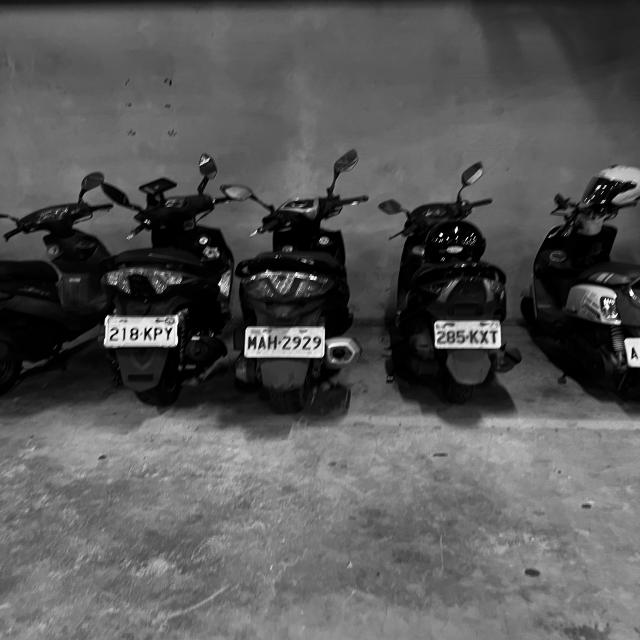-: (466, 334, 470, 339), (277, 340, 282, 344), (140, 331, 144, 336)
1: (120, 326, 127, 342)
2: (108, 325, 120, 342), (301, 335, 312, 351), (282, 334, 292, 350), (436, 329, 446, 344)
5: (456, 329, 466, 344)
8: (445, 328, 456, 344), (130, 326, 138, 340)
9: (312, 336, 322, 350), (292, 334, 300, 349)
A: (628, 344, 640, 364), (258, 334, 266, 350)
H: (266, 335, 278, 350)
K: (142, 326, 154, 341), (469, 328, 478, 344)
M: (247, 335, 258, 349)
T: (489, 329, 499, 344)
X: (478, 329, 489, 344)
Y: (163, 326, 174, 341)
plate: (246, 328, 323, 356), (106, 318, 178, 346), (436, 322, 500, 347), (153, 326, 163, 342)
